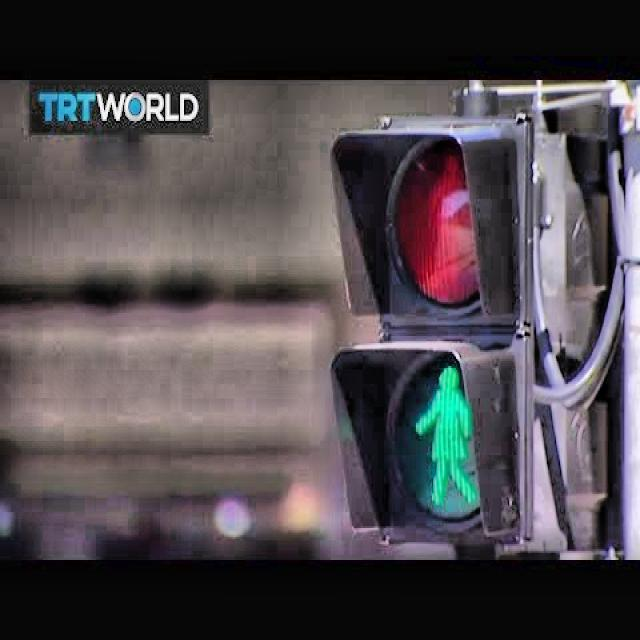green_light: (412, 362, 480, 510)
